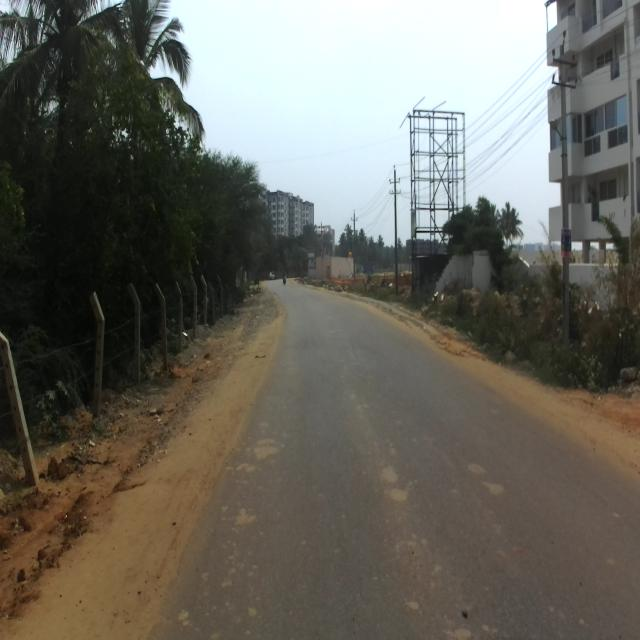barrier ahead at: (0, 338, 46, 492), (80, 281, 113, 420), (124, 277, 148, 385), (151, 277, 170, 360)
